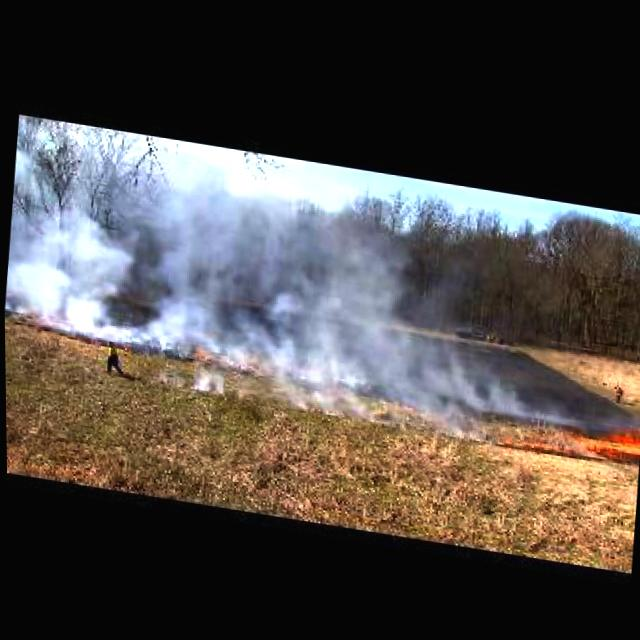Fire: (1, 113, 560, 442), (564, 405, 640, 458)
